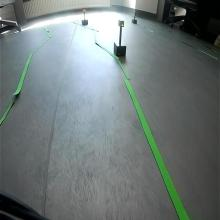green: (118, 19, 125, 28)
